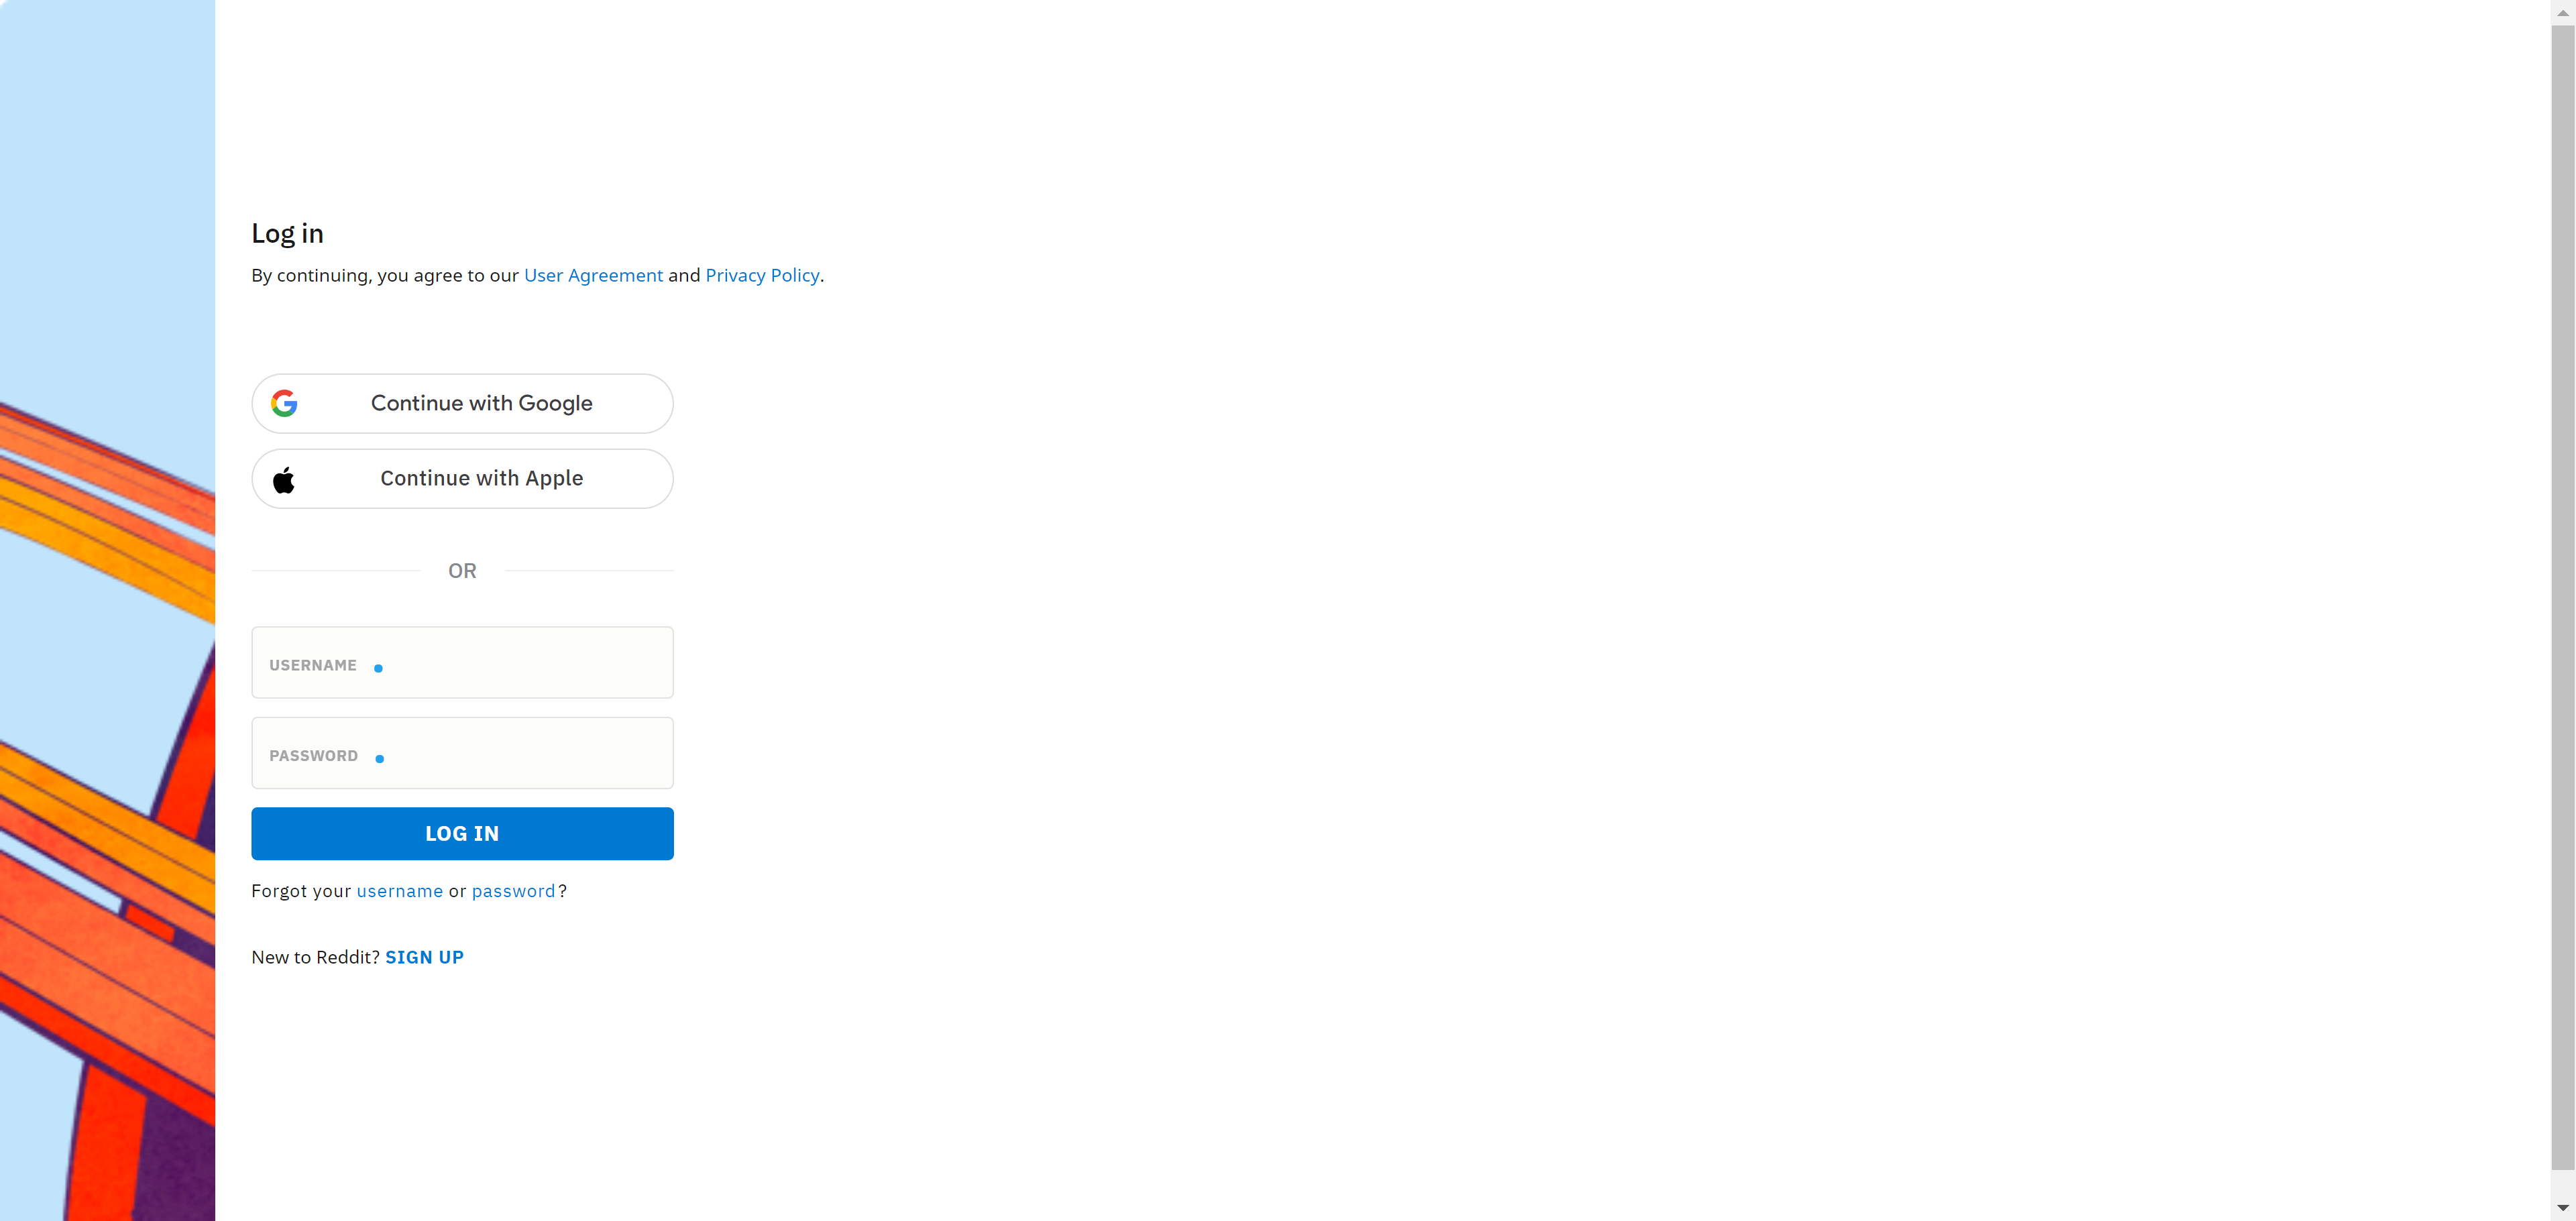login_button: (251, 809, 674, 859)
login_form: (246, 621, 680, 868)
